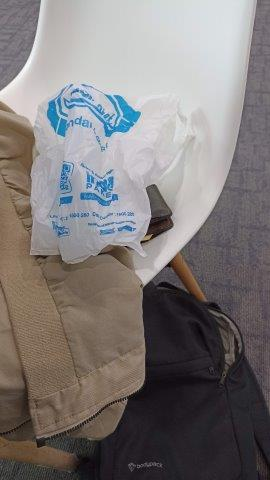plastik: (29, 82, 193, 263)
